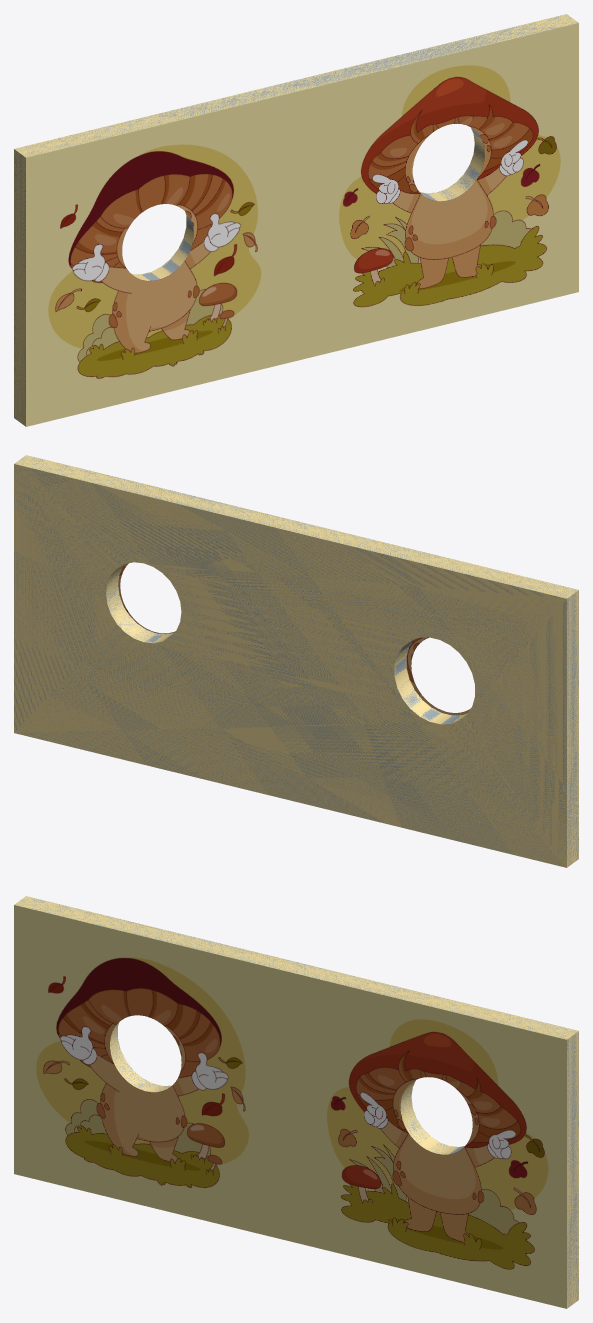
File: Panel.fbx
3 renders of one model, top to bottom at view 1: azimuth 30°, elevation 25°; view 2: azimuth 150°, elevation 25°; view 3: azimuth 330°, elevation 25°, orthographic.
Parts seen in each view (by area): view 1: Model; view 2: Model; view 3: Model.
Boxes of the visible parts, box(x1,y1,x2,y2) form: Model: box(14, 14, 578, 426); Model: box(14, 455, 578, 867); Model: box(14, 896, 578, 1308).
Bounding box in the file's own units: 342 × 159 × 13.
